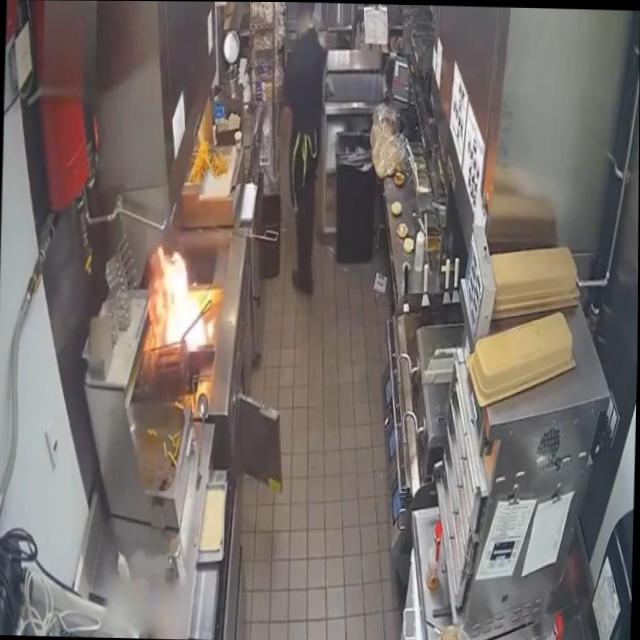fire: (149, 232, 217, 356)
